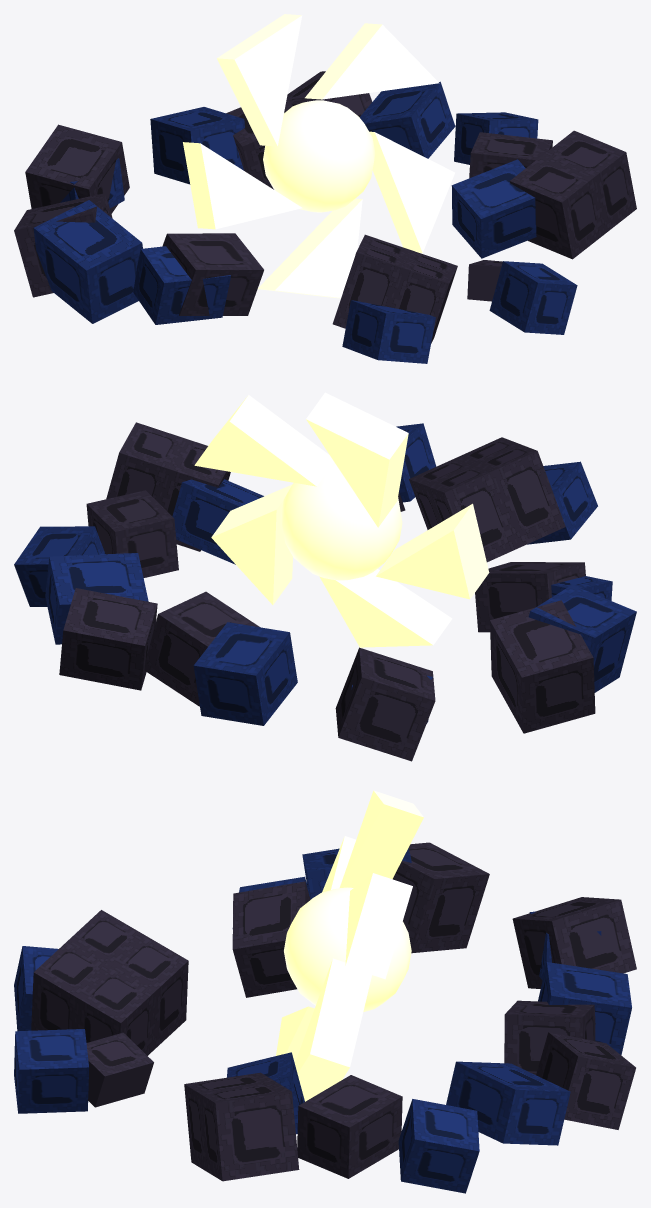
Rendered from FallenStar.glb.
3 views of the same model, one above another, from view 1: azimuth 30°, elevation 25°; view 2: azimuth 150°, elevation 25°; view 3: azimuth 270°, elevation 25° (orthographic). The views are drawn at different scales.
Parts seen in each view (by area): view 1: FallenStar, FallenStar_Glow; view 2: FallenStar, FallenStar_Glow; view 3: FallenStar, FallenStar_Glow.
Boxes of the visible parts, box(x1,y1,x2,y2) form: FallenStar: box(14, 71, 636, 363); FallenStar_Glow: box(183, 14, 454, 298); FallenStar: box(14, 422, 636, 761); FallenStar_Glow: box(194, 392, 489, 647); FallenStar: box(14, 842, 636, 1193); FallenStar_Glow: box(276, 790, 423, 1101).
Bounding box in the file's own units: 9.75 × 4.54 × 8.76.
2 materials, 1 textured.
